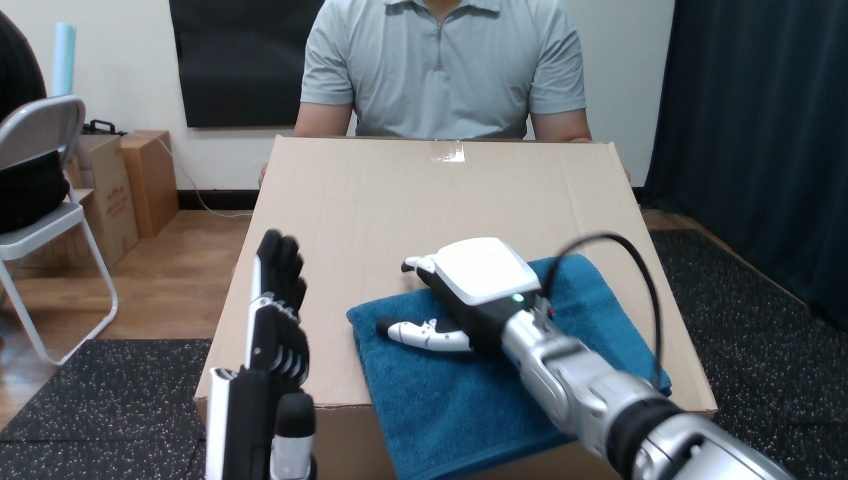left robot hand: (377, 238, 790, 478), (206, 229, 308, 479)
